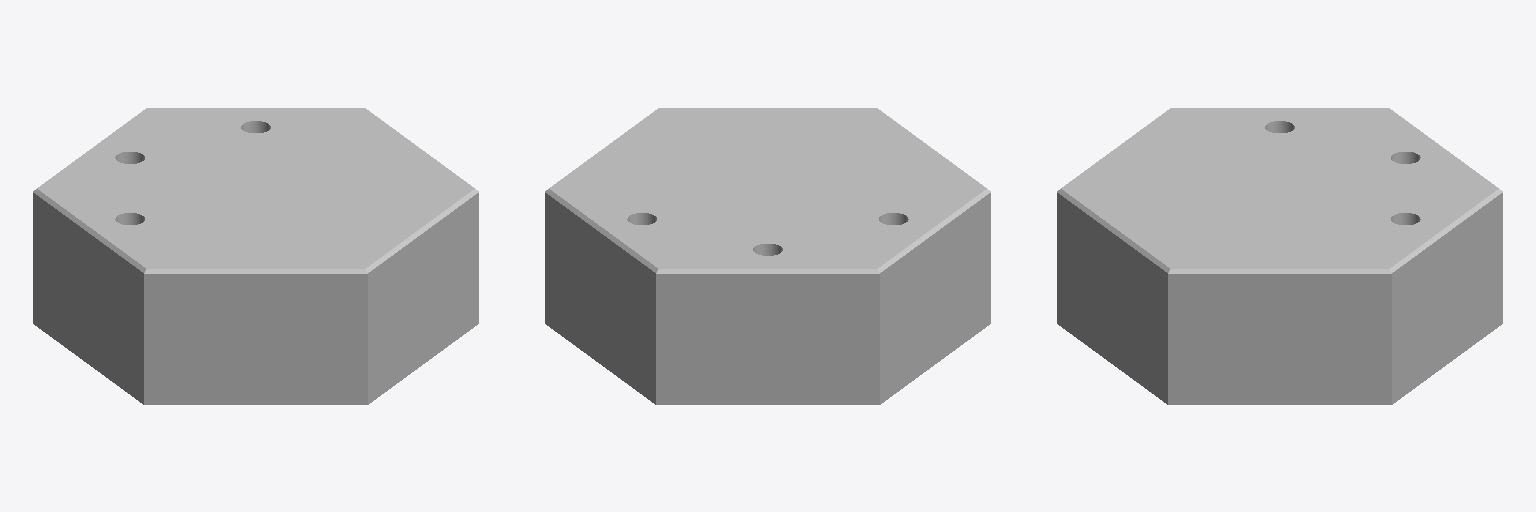
Rendered from lvl1A.obj.
3 views of the same model, side by side, from view 1: azimuth 30°, elevation 25°; view 2: azimuth 150°, elevation 25°; view 3: azimuth 270°, elevation 25° (orthographic).
Visible parts, largest first — view 1: Lvl1A-3_(Mono-NoMags); view 2: Lvl1A-3_(Mono-NoMags); view 3: Lvl1A-3_(Mono-NoMags).
Part boxes in pixels (left/top/right/bottom): Lvl1A-3_(Mono-NoMags): left=33, top=108, right=478, bottom=404; Lvl1A-3_(Mono-NoMags): left=545, top=108, right=990, bottom=404; Lvl1A-3_(Mono-NoMags): left=1057, top=108, right=1502, bottom=404.
Bounding box in the file's own units: 3.13 × 1.21 × 3.62.